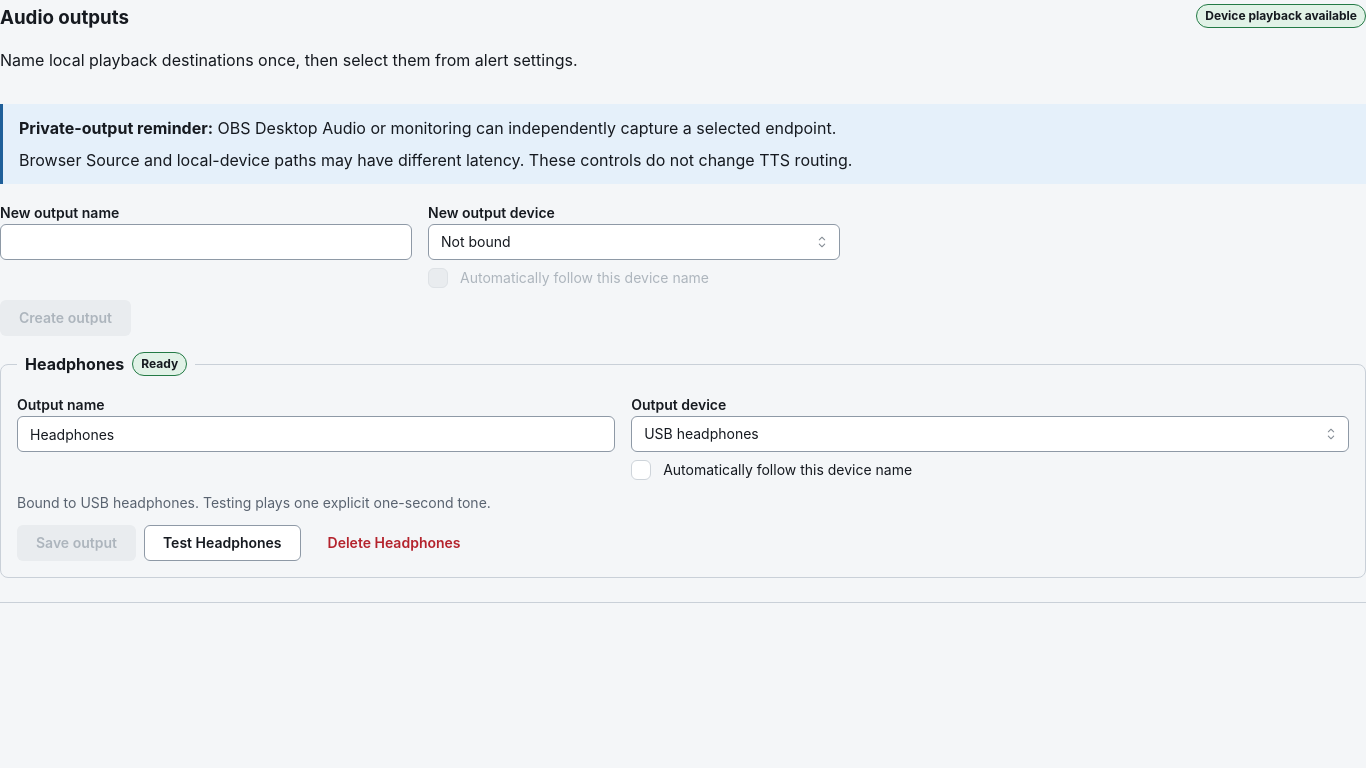
Test: AudioOutputsPanel › retains a pending deletion review, one scoped failure and fresh-review focus
Click the button "Delete Headphones" at [394, 543], box [309,525,480,561]
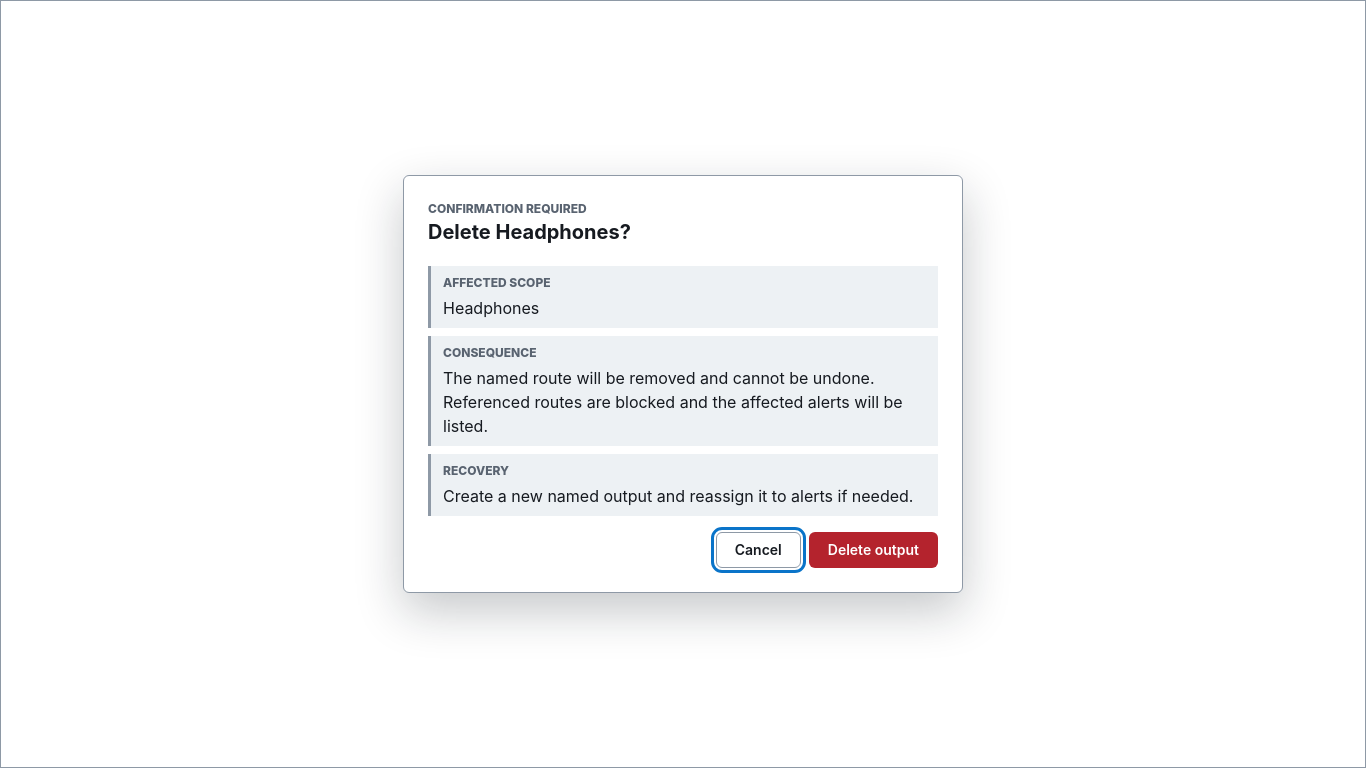
Double-click the button "Delete output" at [873, 550], box [809,532,938,568]
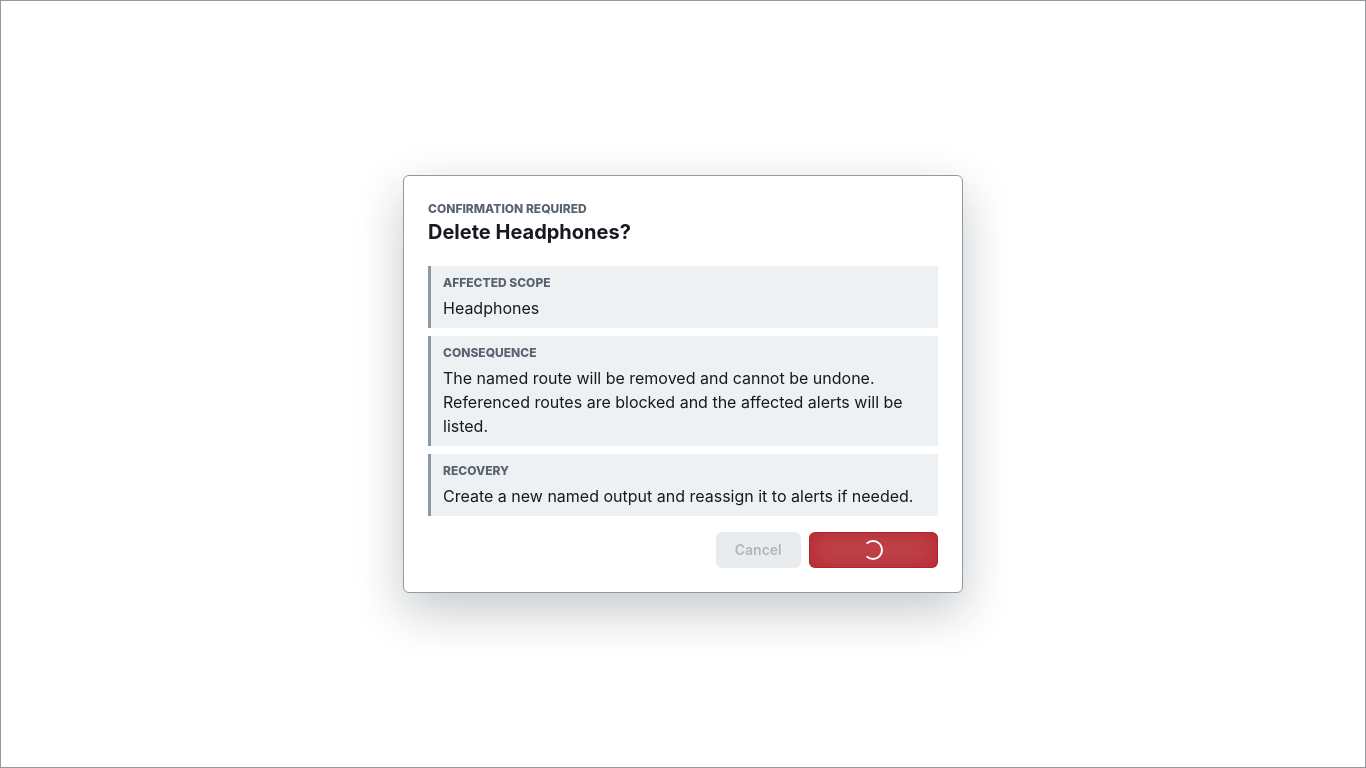
Result: the button "Cancel" is disabled at [716,532,801,568]
Press Escape
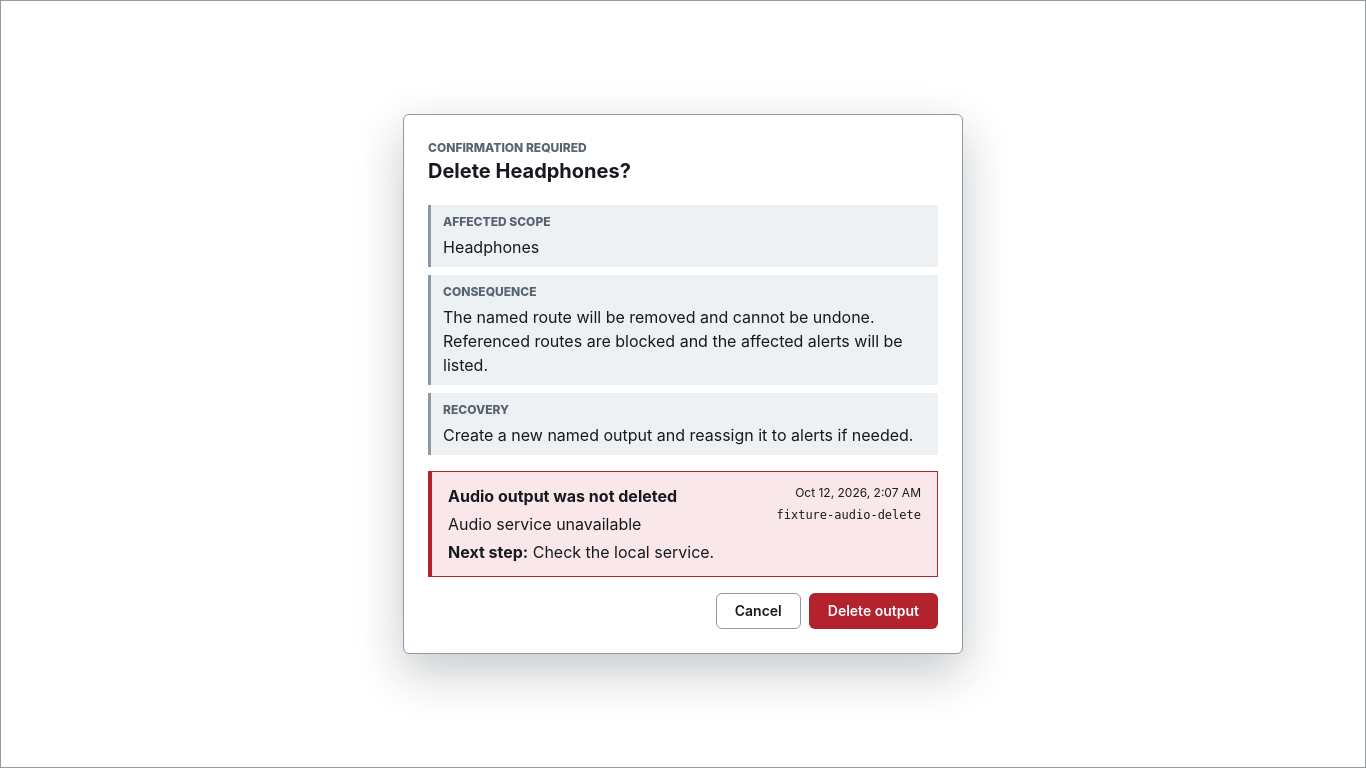
Result: the dialog is shown at [403,114,963,654]
Result: the message shows "fixture-audio-delete" at [776,508,921,522]
Result: the number of messages is 1 at [428,471,938,577]
Click the button "Cancel" at [758, 611], box [716,593,801,629]
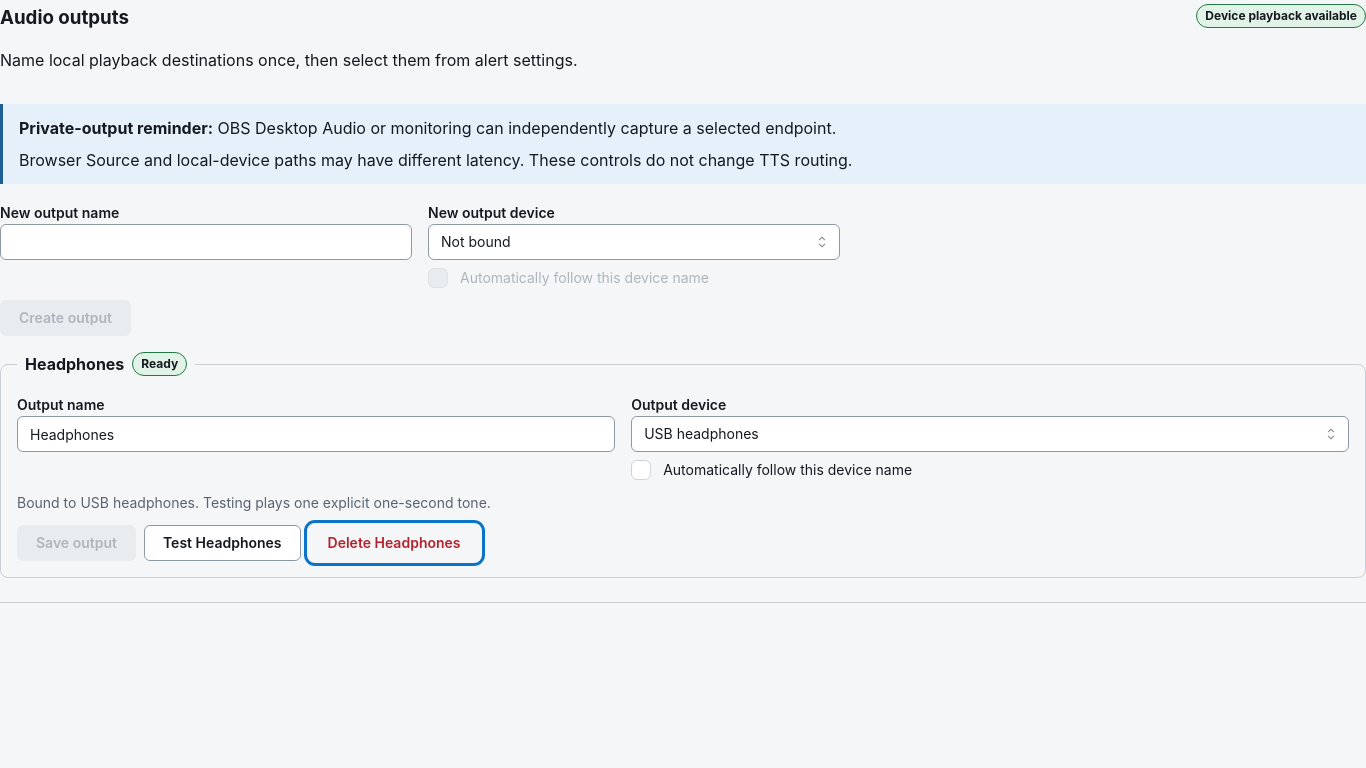
Click the button "Delete Headphones" at [394, 543], box [309,525,480,561]
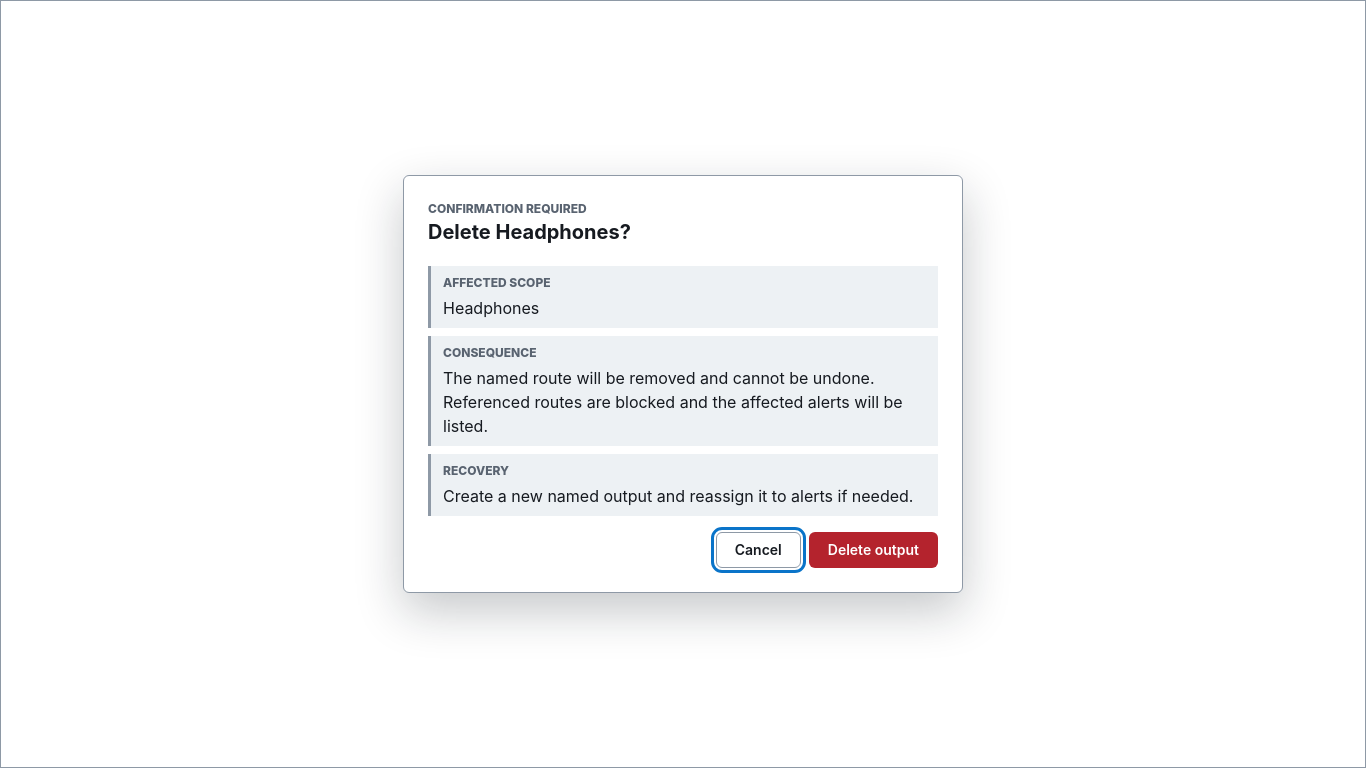
Click the button "Delete output" at [873, 550], box [809,532,938,568]
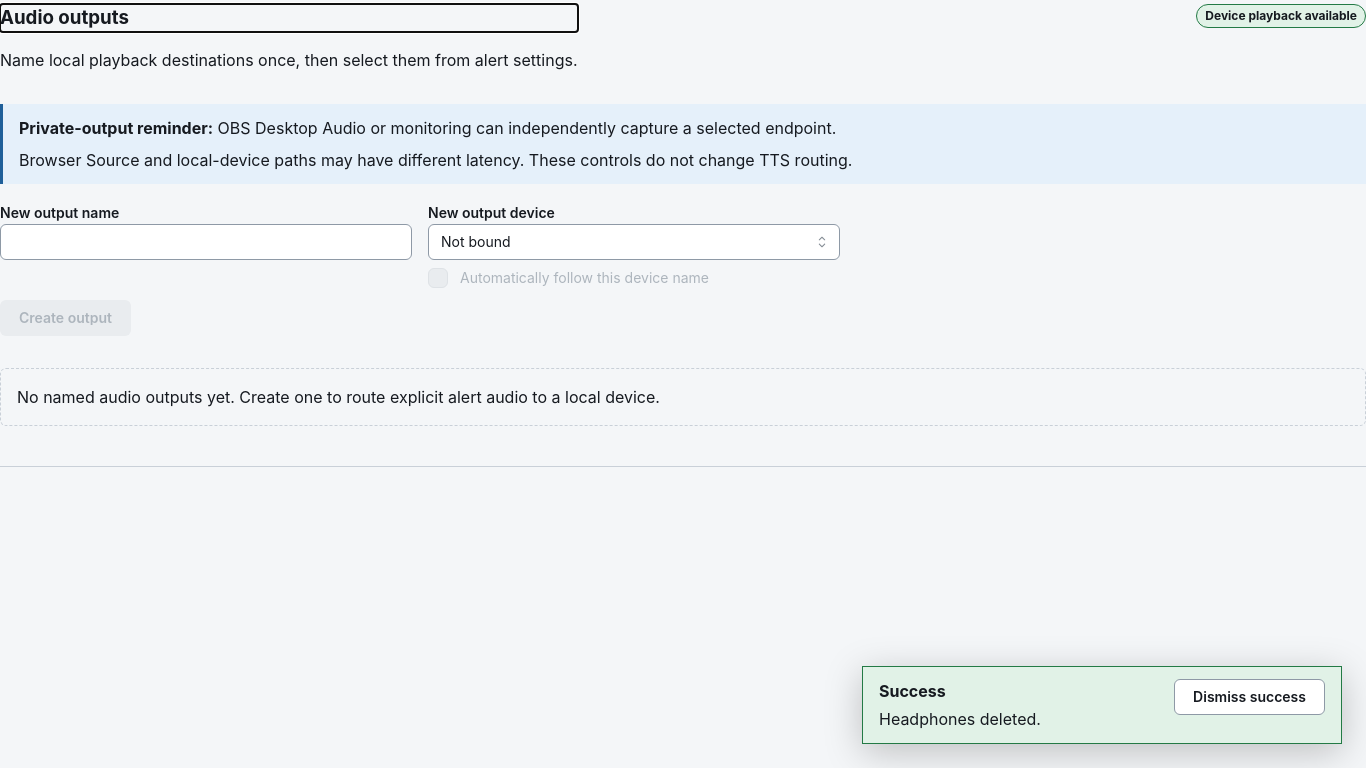
Result: the dialog is gone
